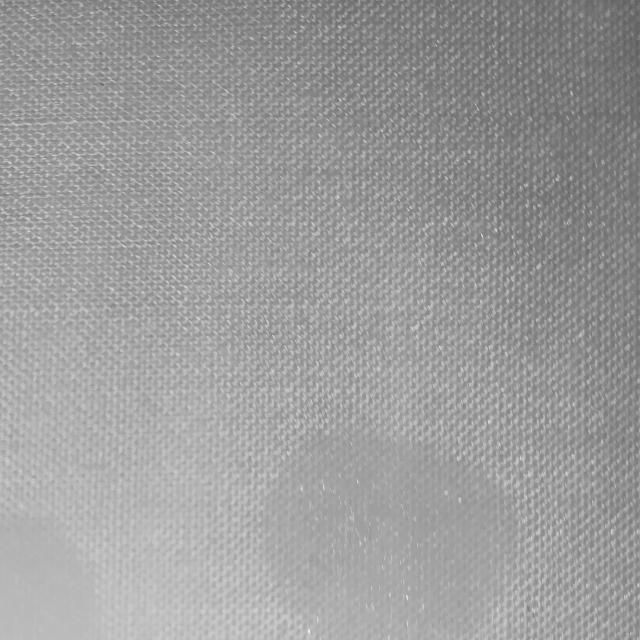Stain: (265, 434, 517, 639), (0, 519, 95, 640)
